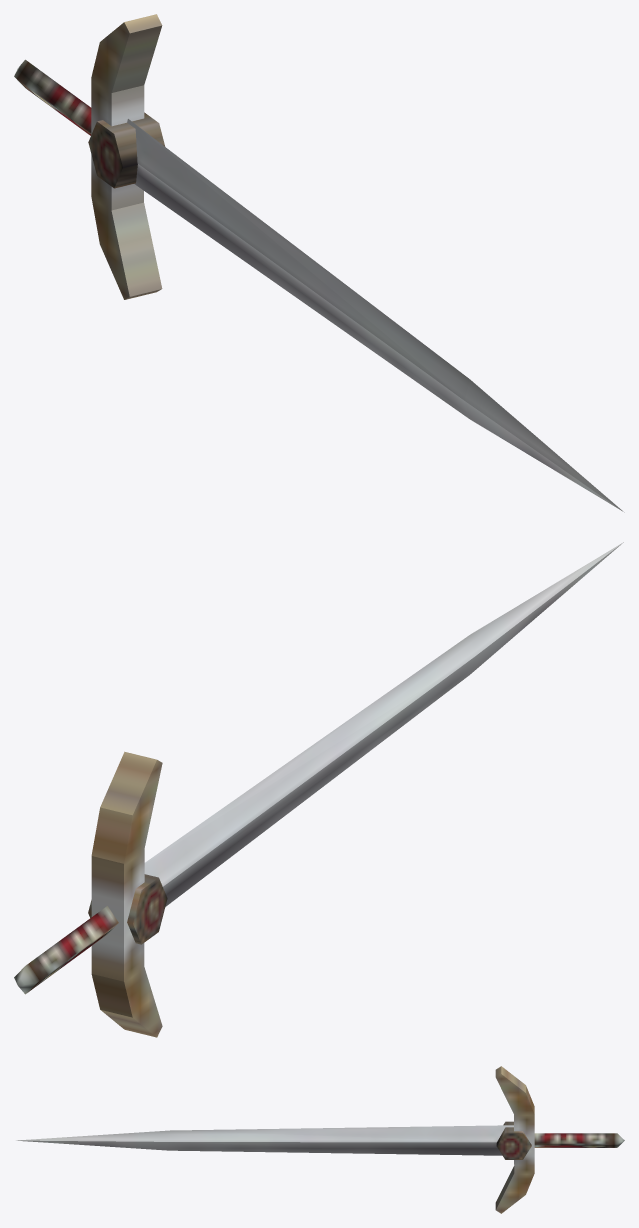
Rendered from beipanzhe.fbx.
3 views of the same model, one above another, from view 1: azimuth 30°, elevation 25°; view 2: azimuth 150°, elevation 25°; view 3: azimuth 270°, elevation 25° (orthographic). The views are drawn at different scales.
Visible parts, largest first — view 1: SMDImport; view 2: SMDImport; view 3: SMDImport.
Part boxes in pixels (x1=…): SMDImport: x1=14, y1=14, x2=624, y2=512; SMDImport: x1=14, y1=542, x2=623, y2=1037; SMDImport: x1=16, y1=1066, x2=624, y2=1213.
Bounding box in the file's own units: 18.85 × 112 × 442.
